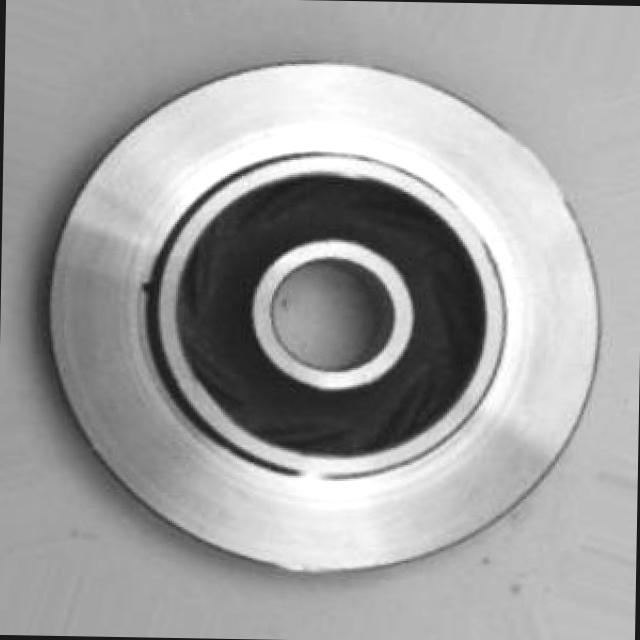Defect: (139, 280, 156, 298)
